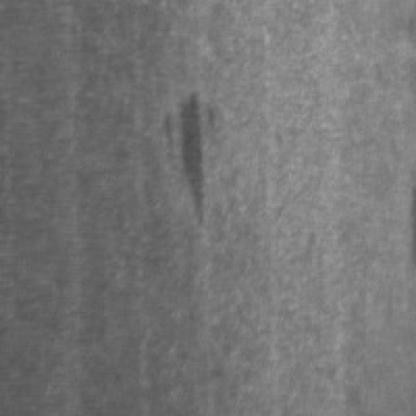inclusion: (158, 81, 227, 233)
